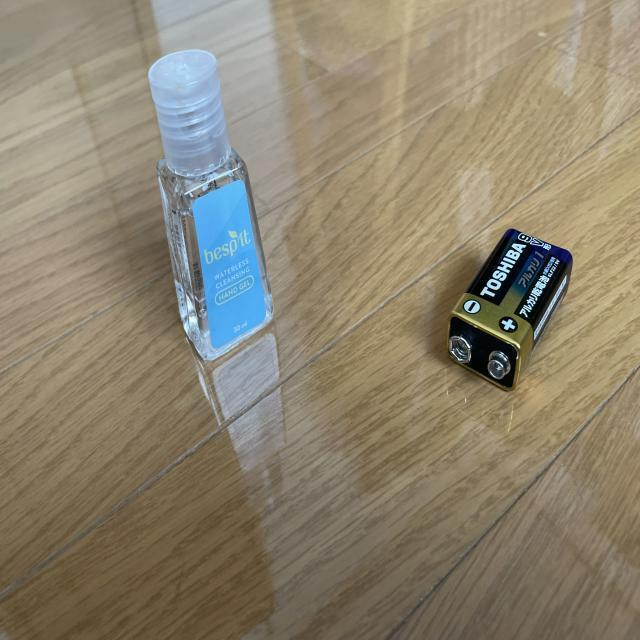9V: (446, 227, 573, 395)
